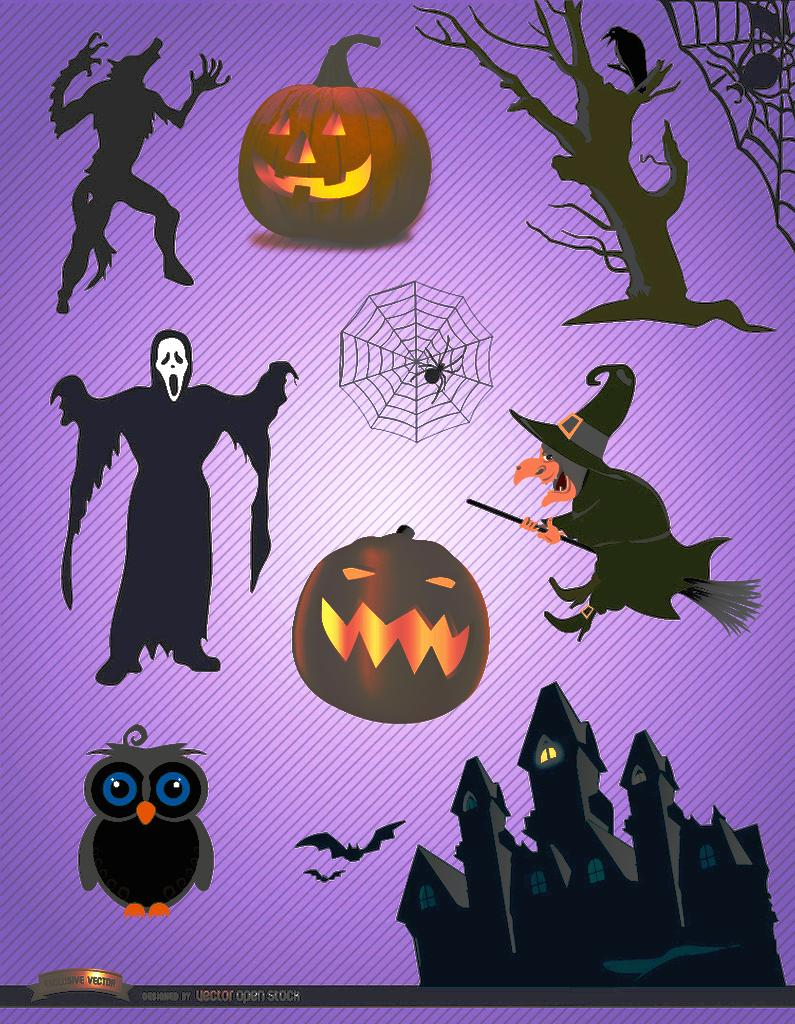Owl: (74, 722, 217, 918)
